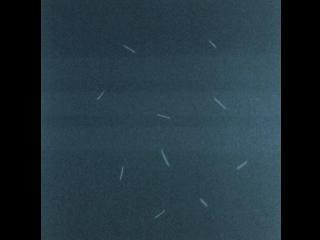scratch: (211, 94, 229, 113), (196, 191, 211, 208), (117, 161, 129, 182), (119, 42, 137, 55), (233, 158, 248, 172), (155, 111, 174, 122), (160, 149, 171, 168), (204, 37, 218, 51), (152, 208, 166, 221), (96, 90, 105, 100)
